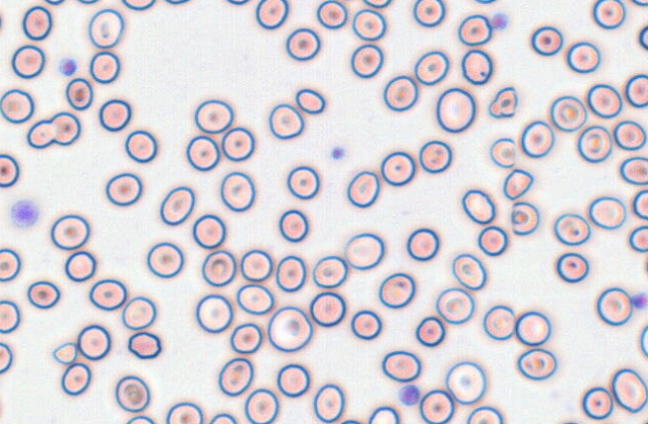PLT: (11, 200, 38, 228), (398, 383, 420, 406), (486, 11, 510, 31), (56, 57, 77, 76), (632, 291, 648, 310), (329, 144, 346, 161)
RBC: (267, 305, 313, 352), (435, 87, 475, 133), (445, 360, 486, 404), (611, 368, 647, 413), (195, 293, 233, 333), (344, 232, 384, 270), (435, 287, 474, 324), (88, 8, 124, 48), (159, 185, 195, 225), (50, 214, 90, 250), (219, 171, 255, 211), (146, 241, 184, 278), (217, 357, 253, 396), (596, 287, 632, 325), (309, 291, 346, 327), (514, 310, 551, 346), (550, 95, 587, 131), (378, 272, 415, 308), (382, 74, 418, 111), (577, 125, 612, 163), (194, 99, 233, 133), (268, 103, 304, 139), (115, 375, 150, 412), (201, 249, 236, 286), (520, 120, 554, 158), (381, 350, 421, 382), (586, 83, 622, 118), (413, 50, 449, 85), (105, 172, 142, 206), (346, 170, 380, 207), (452, 253, 486, 290), (553, 212, 591, 245), (588, 196, 626, 229), (88, 278, 127, 310), (517, 348, 556, 380), (312, 383, 344, 422), (380, 151, 415, 186), (121, 295, 156, 330), (244, 388, 279, 423), (192, 213, 226, 249), (185, 135, 219, 171), (77, 324, 111, 360), (236, 283, 274, 315), (0, 88, 34, 123), (419, 389, 454, 423), (461, 189, 495, 224), (312, 255, 348, 288), (482, 304, 515, 340), (275, 254, 306, 292), (276, 363, 310, 397), (418, 139, 452, 173), (11, 44, 45, 78), (286, 165, 320, 199), (351, 8, 386, 41), (285, 27, 320, 60), (350, 43, 383, 78), (221, 126, 254, 161), (460, 49, 492, 85), (566, 40, 600, 73), (406, 227, 439, 261), (124, 129, 157, 163), (457, 14, 492, 46), (98, 98, 131, 131), (21, 5, 52, 40), (229, 322, 262, 354), (240, 249, 273, 281), (581, 386, 613, 419), (555, 252, 589, 283), (278, 208, 309, 242), (64, 250, 96, 282), (60, 362, 91, 395), (89, 50, 120, 83), (530, 25, 563, 56), (50, 111, 80, 145), (613, 120, 646, 150), (26, 280, 60, 309), (350, 309, 381, 340), (477, 225, 508, 256), (415, 315, 445, 347), (255, 0, 288, 29), (592, 0, 625, 29), (65, 77, 93, 110), (316, 0, 347, 29), (412, 0, 445, 27), (26, 119, 56, 148), (166, 401, 203, 423), (619, 156, 647, 185), (295, 87, 325, 114), (624, 73, 647, 107), (0, 299, 20, 333), (0, 247, 20, 281), (466, 405, 503, 423), (0, 153, 19, 187), (367, 405, 399, 423), (628, 225, 647, 252), (632, 189, 647, 219), (0, 341, 13, 373), (121, 0, 155, 10), (208, 412, 237, 423), (639, 323, 647, 358), (124, 415, 155, 423), (361, 0, 391, 8), (638, 24, 647, 50), (163, 0, 193, 5), (556, 419, 585, 424), (224, 0, 250, 5), (643, 252, 648, 276), (339, 418, 361, 423), (43, 0, 65, 5), (75, 0, 101, 4), (631, 0, 648, 6), (473, 0, 498, 4), (0, 6, 3, 34)
Schistocyte: (509, 202, 541, 234), (504, 168, 536, 199), (488, 86, 518, 118), (128, 332, 162, 359), (490, 137, 518, 168), (52, 343, 77, 364)
